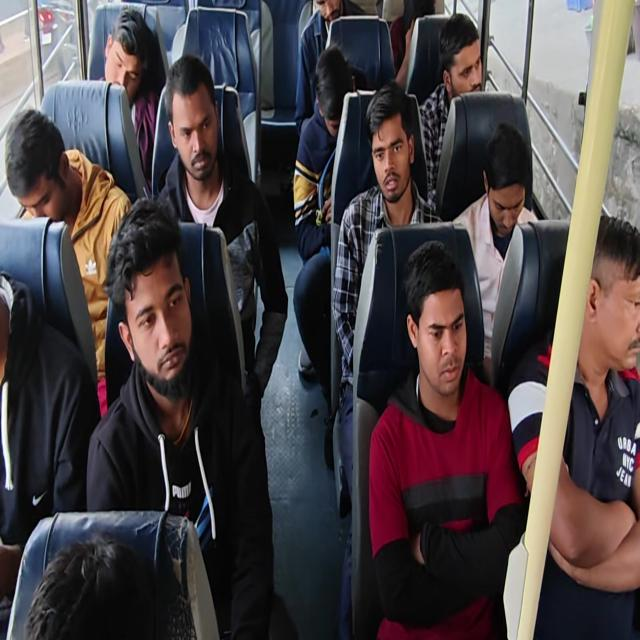person: (1, 1, 638, 638), (85, 197, 275, 638), (368, 240, 527, 638), (507, 213, 639, 638), (154, 53, 288, 422), (331, 81, 443, 516), (4, 107, 133, 417), (0, 272, 101, 635), (452, 121, 539, 380), (292, 44, 356, 396), (24, 531, 155, 639), (419, 12, 483, 212), (294, 0, 378, 136), (98, 7, 160, 187), (389, 0, 435, 89)
